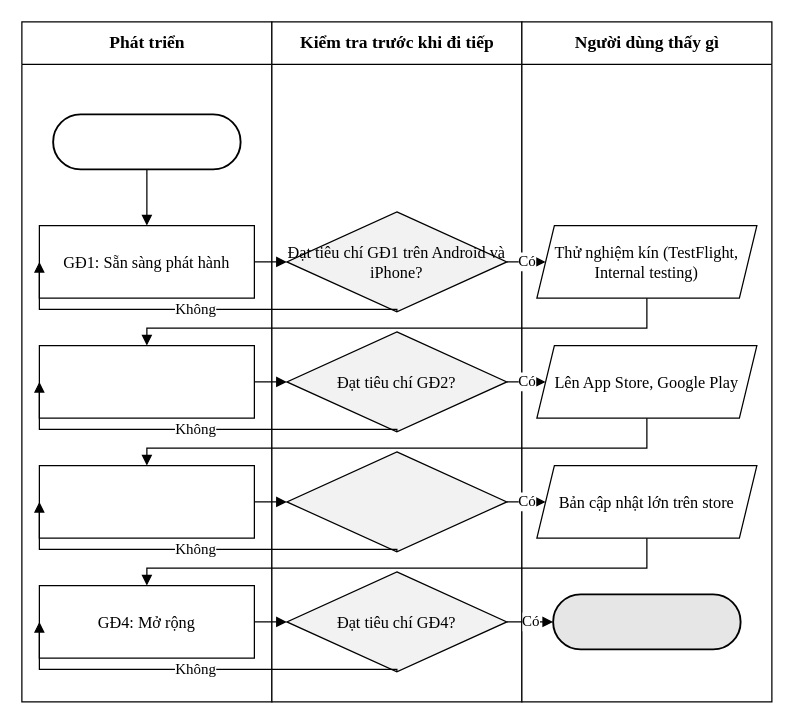
Some shapes in this 794 by 724 pixel diagram are drawn without their labels. Each missing label, with the centre of its shape:
"Bản cập nhật trên store" goes at point 646,621.
"Bắt đầu kế hoạch" goes at point 146,141.
"GĐ2: Bảo mật và an toàn" goes at point 146,381.
"GĐ3: Mạng xã hội đầy đủ" goes at point 146,501.
"Đạt tiêu chí GĐ3?" goes at point 396,501.
